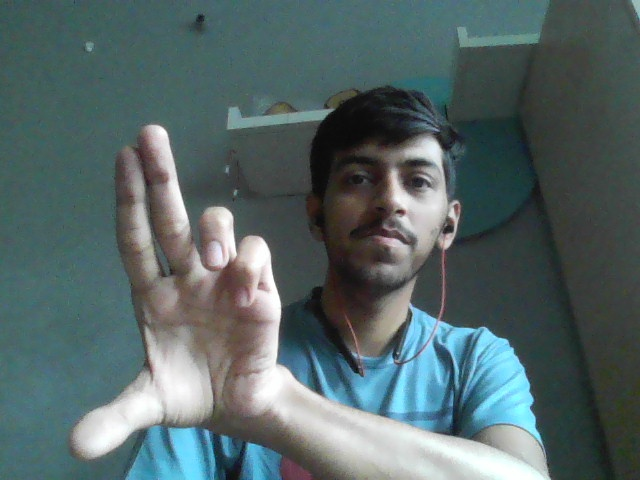No: (71, 108, 287, 462)
